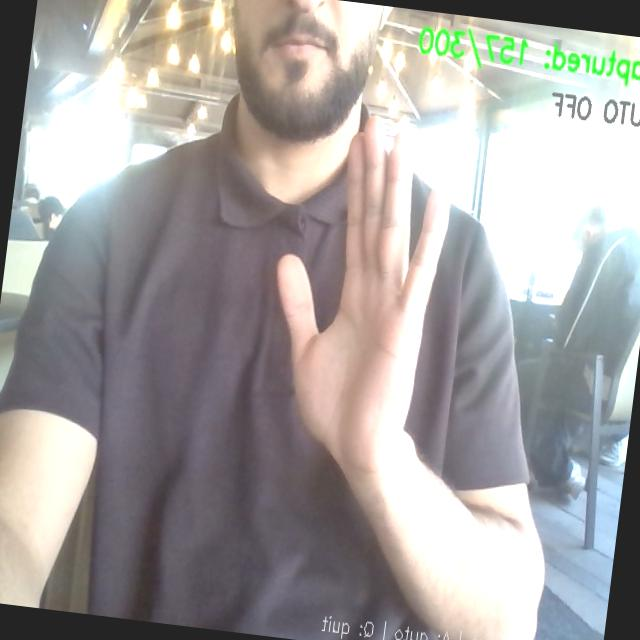Hand: (278, 119, 448, 473)
